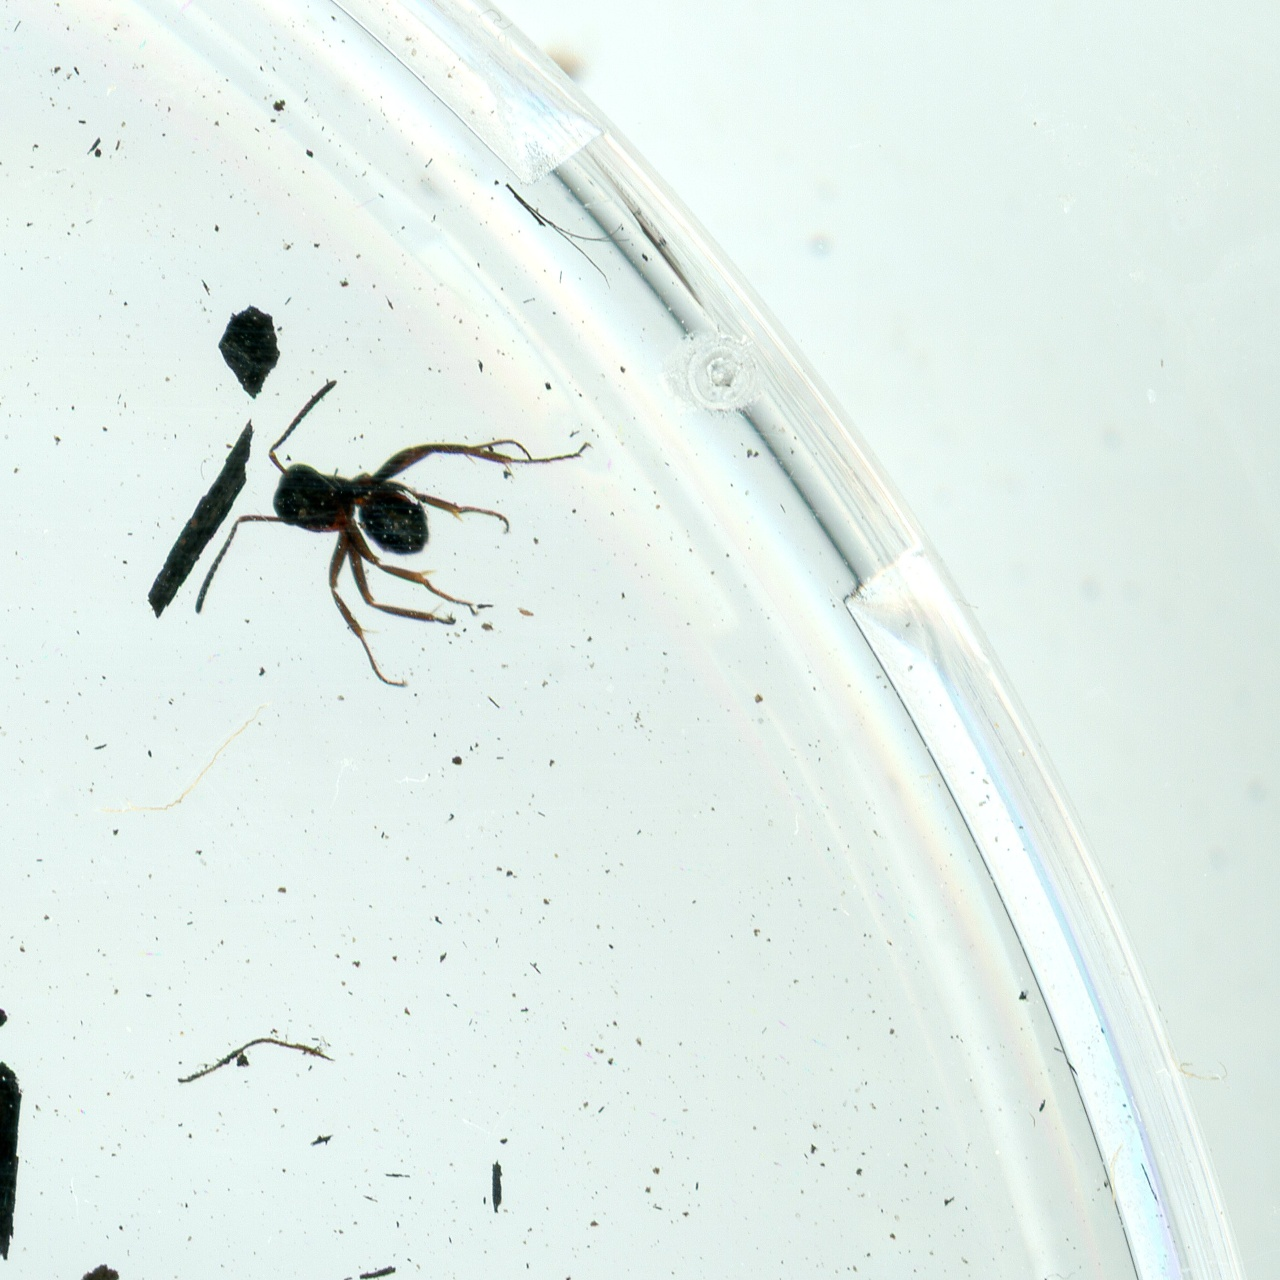arthropod: (183, 366, 608, 709)
